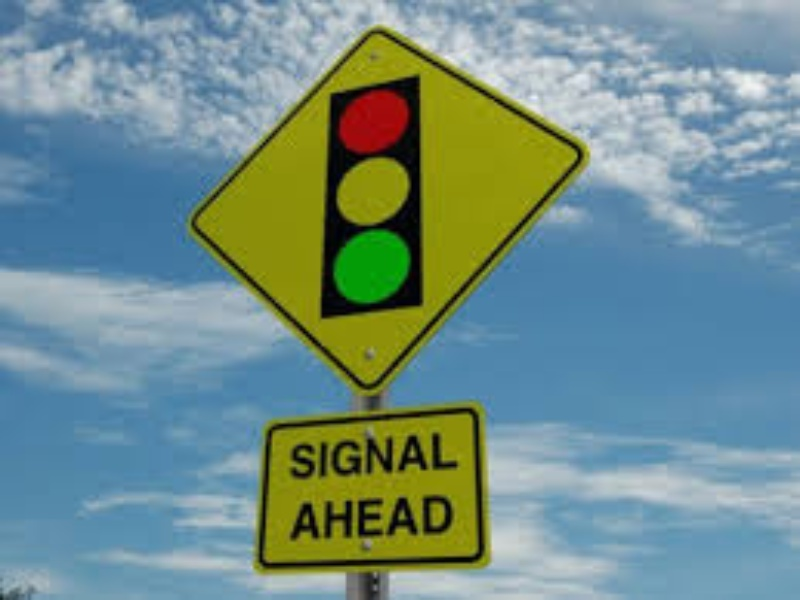traffic signal sign: (182, 23, 593, 397)
